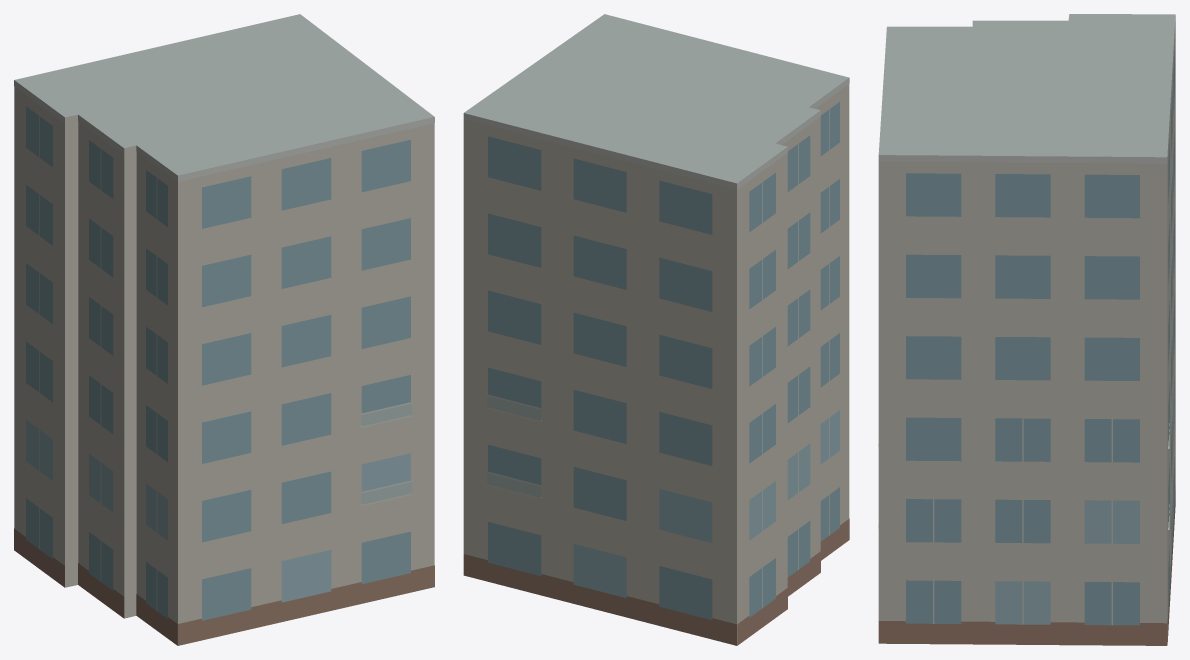
File: survey-upis-32661186.glb
3 renders of one model, left to right at view 1: azimuth 30°, elevation 25°; view 2: azimuth 150°, elevation 25°; view 3: azimuth 270°, elevation 25°, orthographic. The views are drawn at different scales.
Visible parts, largest first — view 1: survey-upis-32661186.tmp; view 2: survey-upis-32661186.tmp; view 3: survey-upis-32661186.tmp.
Boxes of the visible parts, bbox=[...] form: survey-upis-32661186.tmp: bbox=[14, 14, 434, 645]; survey-upis-32661186.tmp: bbox=[463, 14, 849, 645]; survey-upis-32661186.tmp: bbox=[878, 14, 1175, 645].
Size of the model in its own units: 11.51 by 18.3 by 10.1.
